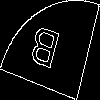B: (24, 25, 62, 79)
